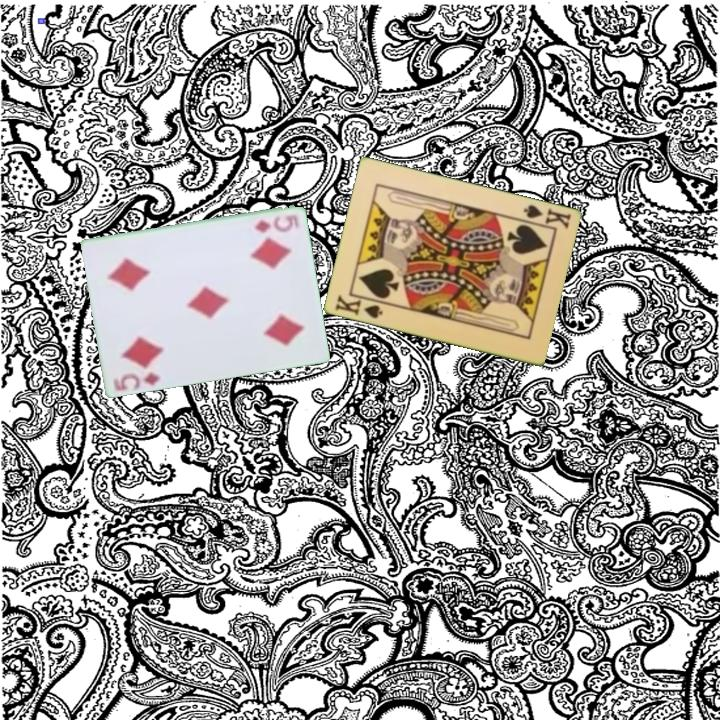5d: (109, 369, 163, 394), (251, 212, 293, 236)
Ks: (516, 201, 574, 232), (331, 291, 388, 322)
